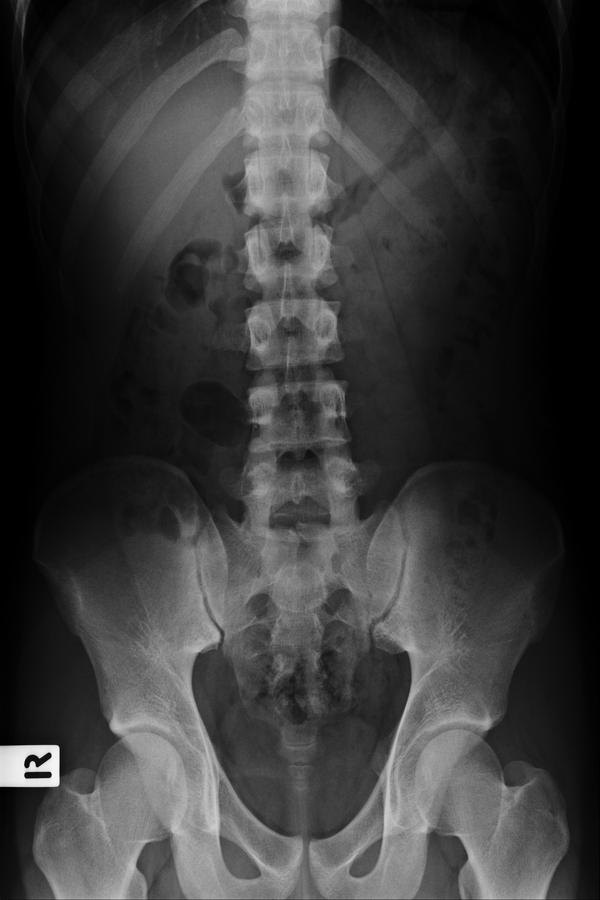lumbar scoliosis: (229, 2, 365, 545)
